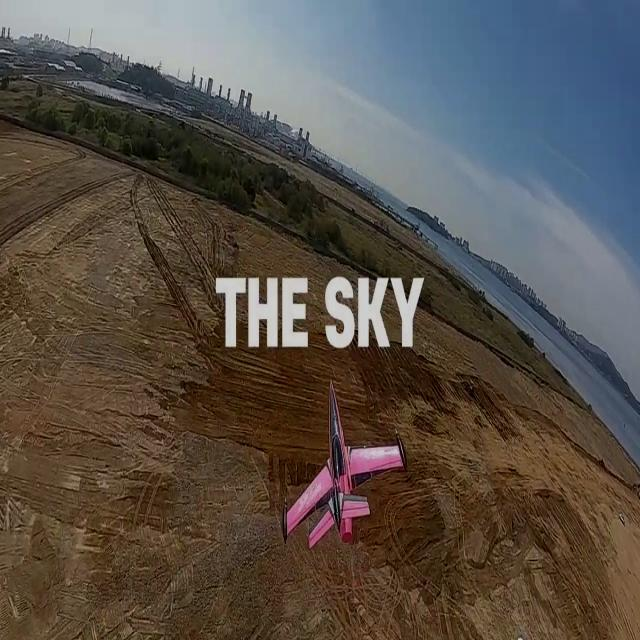iha: (314, 387, 373, 555)
